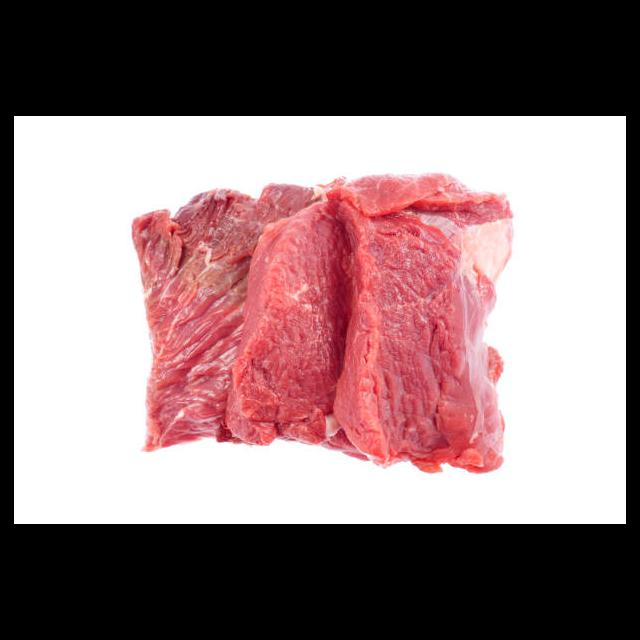beef: (132, 171, 526, 474)
